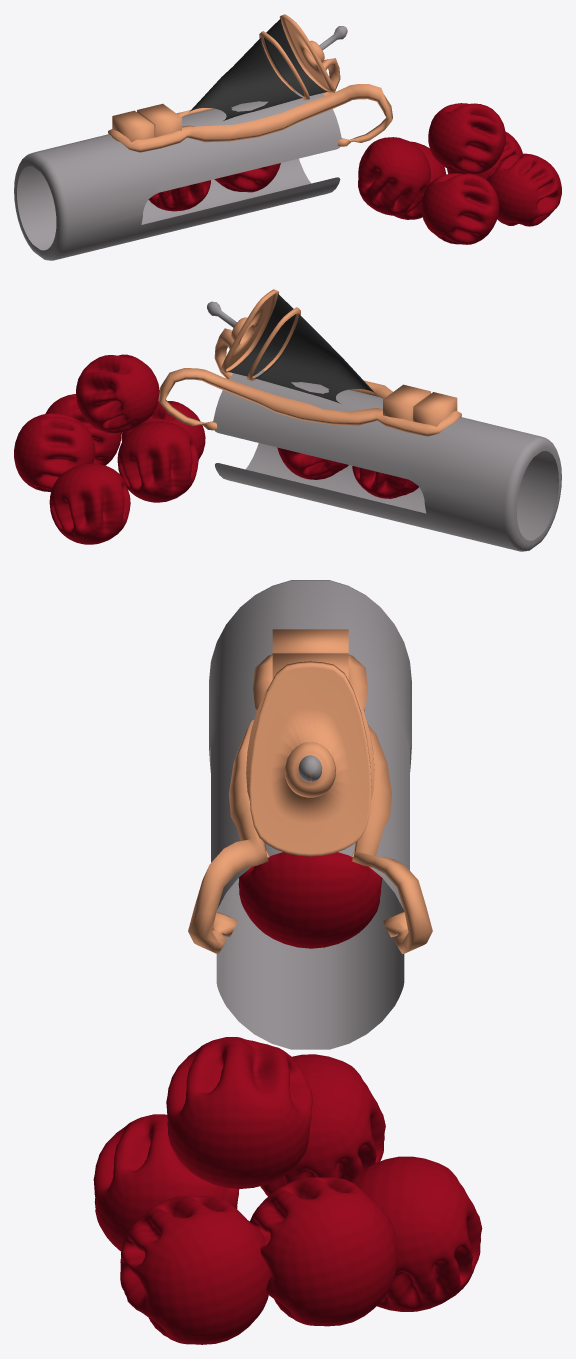
File: rosary cannon.glb
3 renders of one model, top to bottom at view 1: azimuth 30°, elevation 25°; view 2: azimuth 150°, elevation 25°; view 3: azimuth 270°, elevation 25°, orthographic. The views are drawn at different scales.
Visible parts, largest first — view 1: gun, Circle, deco pataern, Cube.003, Cube.005, Cube.004, Cube.007, deco, Cube.001, Cube.002, Cube.008, Cube.006; view 2: gun, Circle, deco pataern, Cube.008, Cube.003, Cube.004, Cube.006, deco, Cube.007, Cube.001, Cube.002, Cube.005; view 3: gun, Circle, Cube.004, Cube.007, Cube.006, Cube.008, deco pataern, Cube.002, Cube.005, Cube.003, deco.
Part boxes in pixels (x1=…): gun: x1=14, y1=90, x2=341, y2=260; Circle: x1=189, y1=14, x2=347, y2=120; deco pataern: x1=108, y1=58, x2=392, y2=152; Cube.003: x1=358, y1=137, x2=430, y2=215; Cube.005: x1=421, y1=173, x2=499, y2=244; Cube.004: x1=428, y1=103, x2=505, y2=174; Cube.007: x1=487, y1=153, x2=561, y2=226; deco: x1=112, y1=103, x2=181, y2=142; Cube.001: x1=148, y1=180, x2=210, y2=211; Cube.002: x1=214, y1=163, x2=280, y2=192; Cube.008: x1=394, y1=141, x2=446, y2=219; Cube.006: x1=447, y1=131, x2=522, y2=179; gun: x1=213, y1=370, x2=561, y2=551; Circle: x1=207, y1=289, x2=375, y2=403; deco pataern: x1=158, y1=328, x2=461, y2=436; Cube.008: x1=49, y1=463, x2=130, y2=544; Cube.003: x1=117, y1=421, x2=198, y2=502; Cube.004: x1=76, y1=354, x2=159, y2=433; Cube.006: x1=14, y1=413, x2=95, y2=492; deco: x1=383, y1=384, x2=457, y2=426; Cube.007: x1=45, y1=394, x2=121, y2=465; Cube.001: x1=352, y1=466, x2=418, y2=498; Cube.002: x1=277, y1=447, x2=348, y2=479; Cube.005: x1=121, y1=401, x2=205, y2=459; gun: x1=209, y1=580, x2=411, y2=1049; Circle: x1=246, y1=661, x2=374, y2=856; Cube.004: x1=166, y1=1037, x2=312, y2=1188; Cube.007: x1=120, y1=1195, x2=270, y2=1344; Cube.006: x1=250, y1=1177, x2=397, y2=1326; Cube.008: x1=350, y1=1156, x2=482, y2=1311; deco pataern: x1=188, y1=654, x2=432, y2=953; Cube.002: x1=238, y1=852, x2=382, y2=948; Cube.005: x1=93, y1=1114, x2=239, y2=1251; Cube.003: x1=260, y1=1054, x2=385, y2=1196; deco: x1=272, y1=629, x2=348, y2=679.
Size of the model in its own units: 8.24 by 4.02 by 2.82.
